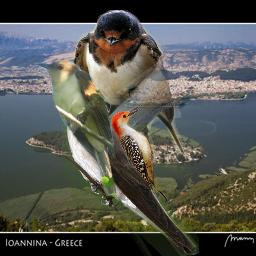Cuckoo: (32, 58, 120, 202)
Swallow: (62, 76, 199, 256), (74, 10, 186, 157)
Woodpecker: (111, 106, 169, 203)
